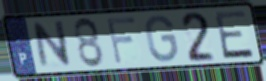2: (180, 10, 217, 64)
8: (73, 16, 106, 70)
E: (212, 8, 256, 61)
F: (105, 15, 139, 68)
G: (144, 13, 180, 64)
N: (31, 18, 74, 71)
